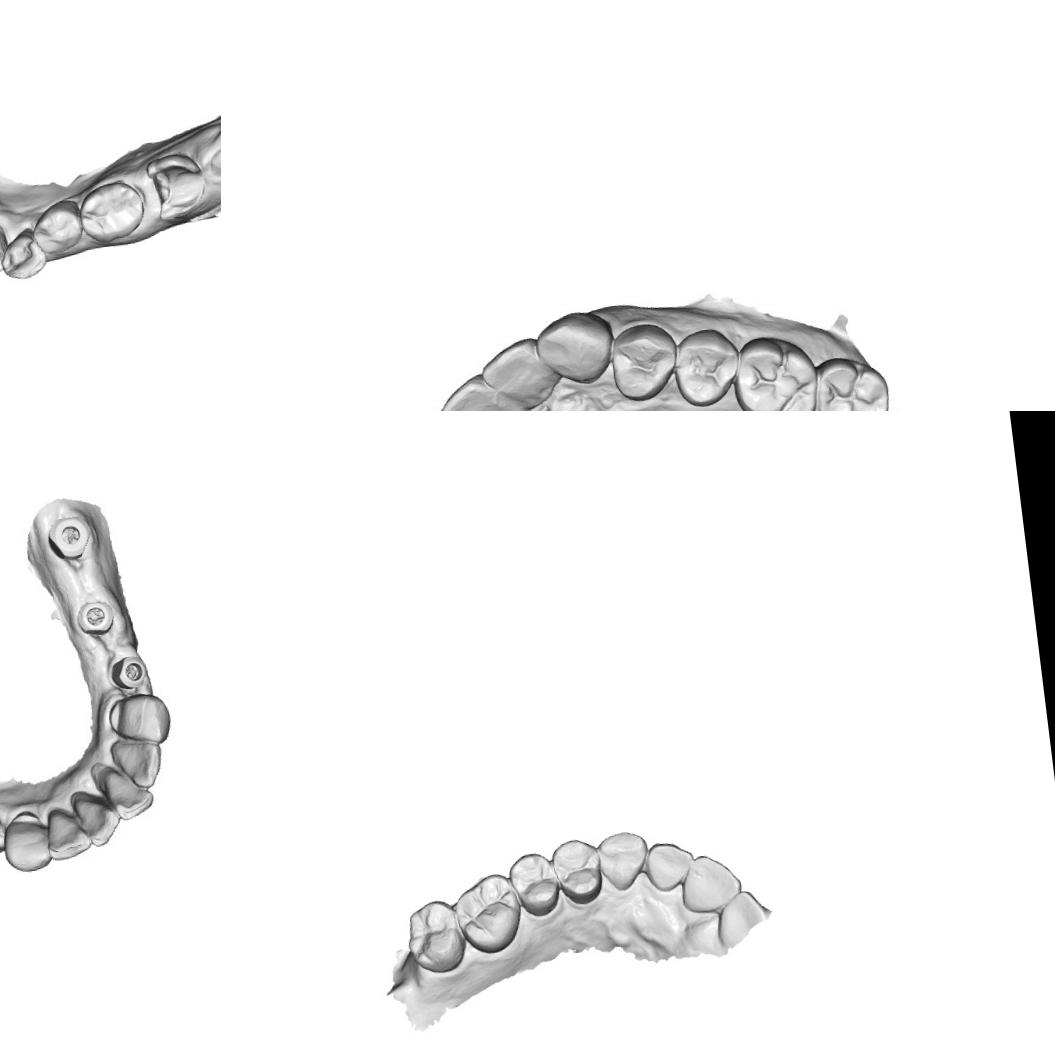canine: (532, 304, 618, 390), (106, 690, 174, 747), (595, 827, 652, 895), (0, 811, 54, 876)
implant: (44, 512, 98, 564), (72, 596, 118, 640), (108, 652, 150, 691)
incisor: (480, 334, 563, 411), (676, 848, 745, 916), (429, 369, 534, 411), (711, 886, 774, 948), (99, 762, 157, 824), (642, 836, 698, 896), (112, 735, 166, 792), (42, 806, 94, 863), (75, 792, 123, 850)
molar: (733, 330, 822, 411), (449, 869, 526, 959), (402, 896, 468, 978), (75, 177, 149, 245), (811, 351, 891, 411)
premolar: (606, 317, 682, 402), (673, 326, 741, 410), (504, 848, 564, 921), (549, 835, 606, 908), (28, 196, 86, 258), (0, 224, 50, 283)
